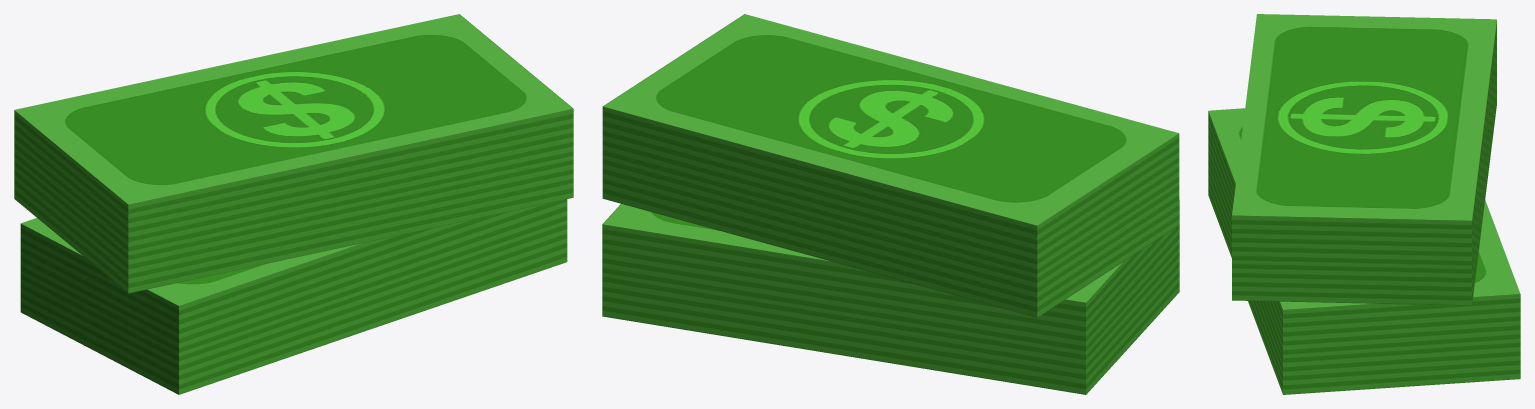
The model's file is Money_Stack.fbx.
3 renders of one model, left to right at view 1: azimuth 30°, elevation 25°; view 2: azimuth 150°, elevation 25°; view 3: azimuth 270°, elevation 25°, orthographic. The views are drawn at different scales.
Parts seen in each view (by area): view 1: Money2, Money1; view 2: Money2, Money1; view 3: Money2, Money1.
Part boxes in pixels (box(x1,y1,x2,y2)): Money2: box(14, 14, 573, 293); Money1: box(20, 199, 567, 394); Money2: box(602, 14, 1179, 317); Money1: box(602, 200, 1179, 394); Money2: box(1232, 14, 1496, 305); Money1: box(1208, 108, 1520, 394).
Bounding box in the file's own units: 123 × 45.29 × 75.4.
1 material, 1 textured.
